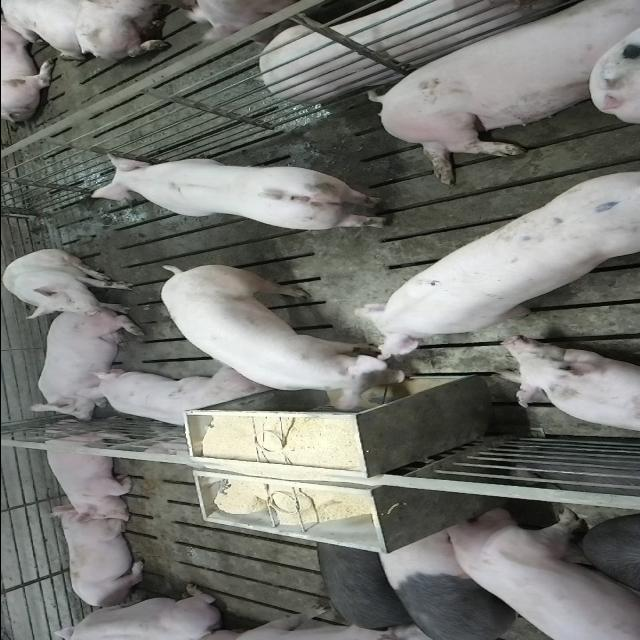Lateral_lying: (362, 5, 636, 187), (245, 0, 577, 103)
Sitting: (2, 249, 136, 319)
Standing: (348, 168, 636, 360), (162, 263, 412, 407), (441, 505, 640, 638), (90, 152, 398, 232), (374, 526, 542, 638), (310, 538, 416, 628)
Sternal_lying: (494, 338, 640, 437), (23, 313, 138, 423), (85, 370, 269, 431), (40, 584, 225, 638), (38, 425, 138, 522), (52, 509, 148, 610)
